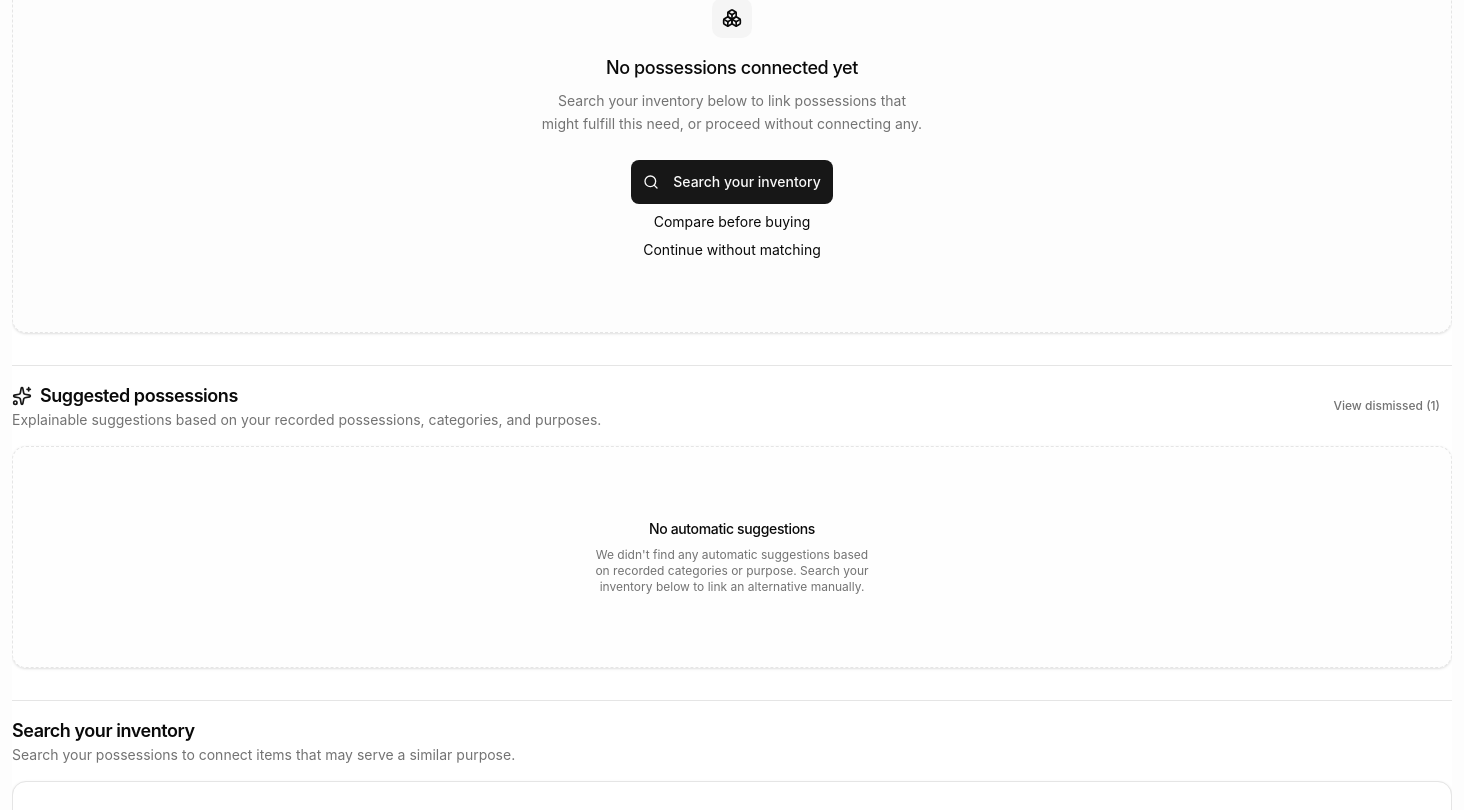
Test: DesireMatches component › PER-46: allows expanding dismissed suggestions and undoing dismissal
(page scrolled)
Click the button "View dismissed (1)".
click(1387, 406)  # box x1=1322 y1=384 x2=1452 y2=428
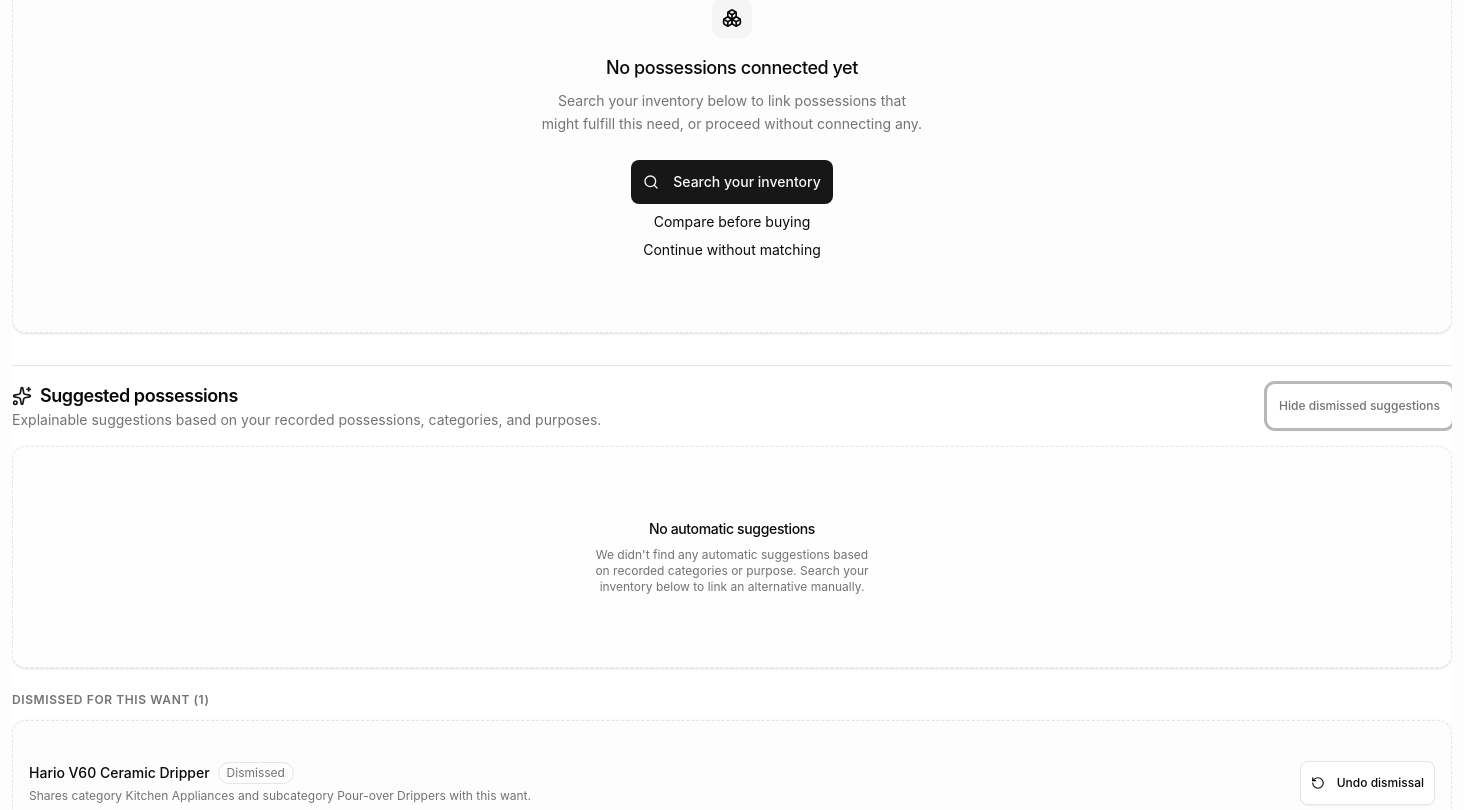
Expected: the heading "Dismissed for this want (1)" is shown, x1=12 y1=692 x2=210 y2=706
Expected: the button "Undo dismissal" is shown
Click undo
Click the button "Undo dismissal".
click(1367, 782)  # box x1=1300 y1=760 x2=1435 y2=804
(page scrolled)
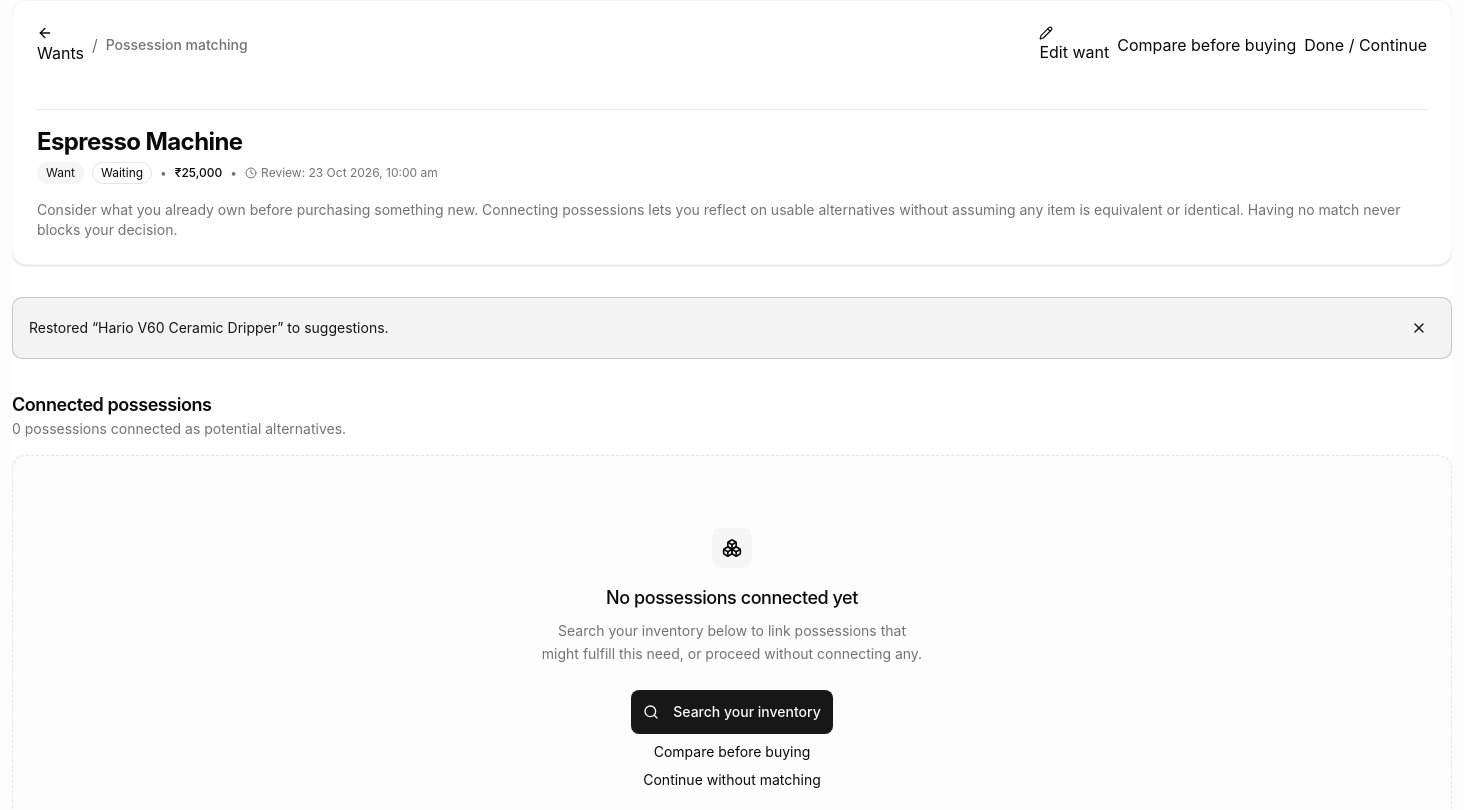
Expected: the text "Restored “Hario V60 Ceramic Dripper” to suggestions." is shown, x1=29 y1=318 x2=389 y2=338
